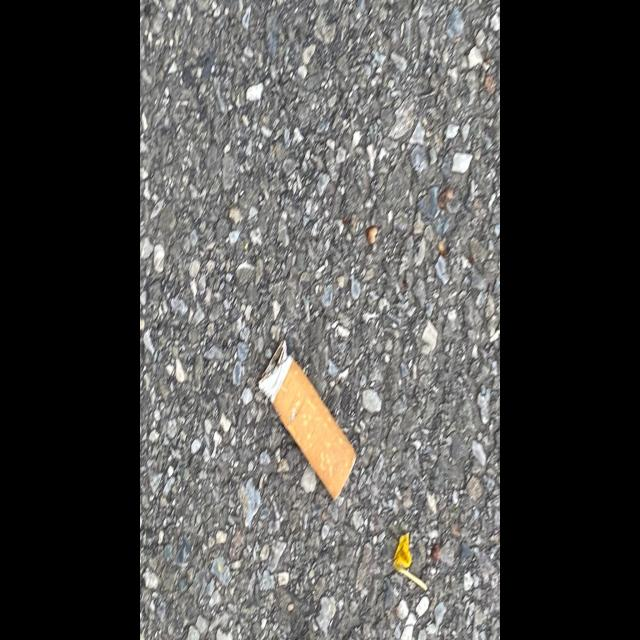other waste: (256, 336, 359, 504)
